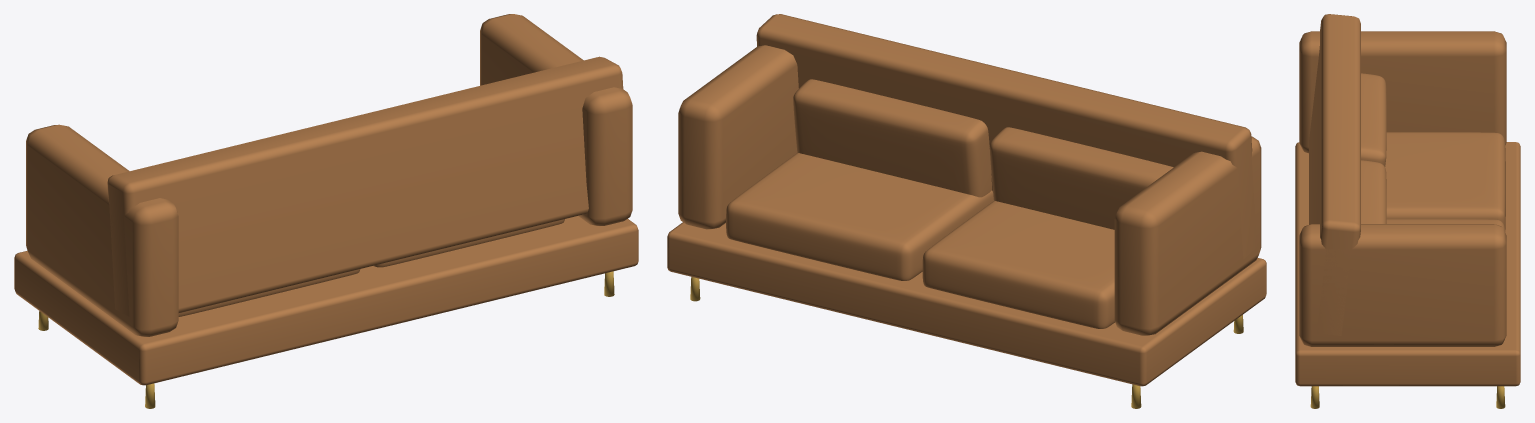
The model's file is sofa.glb.
3 renders of one model, left to right at view 1: azimuth 30°, elevation 25°; view 2: azimuth 150°, elevation 25°; view 3: azimuth 270°, elevation 25°, orthographic. The views are drawn at different scales.
Visible parts, largest first — view 1: leg; view 2: leg; view 3: leg.
Boxes of the visible parts, x1,y1,x2,y2 form: leg: (14,14,638,408); leg: (667,14,1266,408); leg: (1295,14,1520,408).
Bounding box in the file's own units: 2 × 0.8474 × 0.9.
